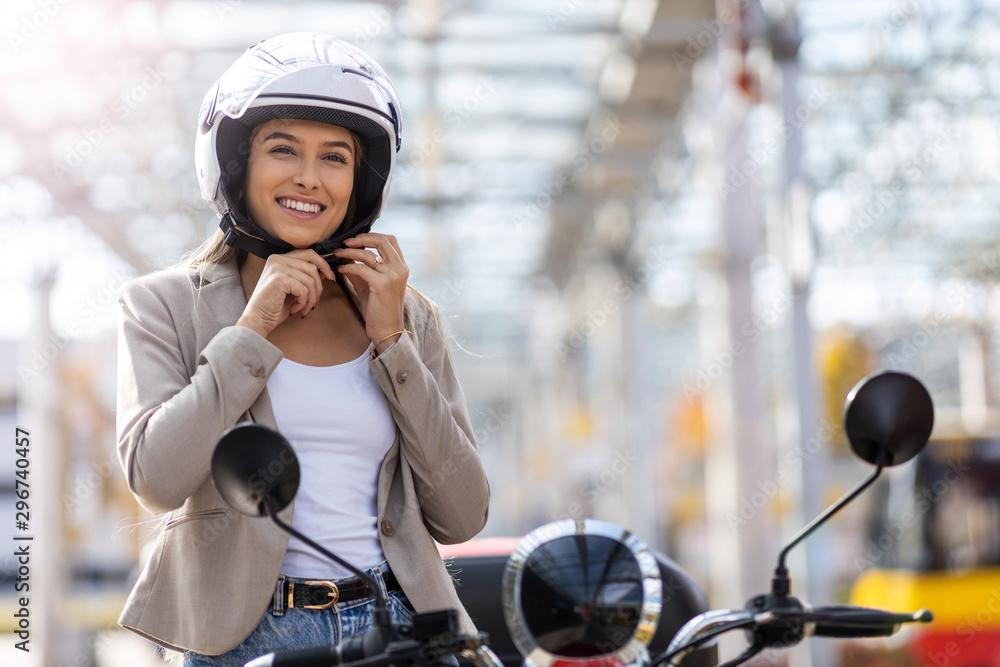helmet: (193, 29, 405, 275)
